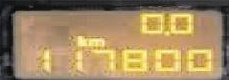-: (162, 28, 168, 35)
0: (151, 46, 180, 72), (184, 47, 211, 72), (166, 11, 193, 35), (137, 10, 162, 33)
1: (39, 47, 53, 72), (71, 47, 82, 72)
7: (86, 48, 115, 69)
8: (120, 47, 146, 71)
X: (86, 36, 104, 46), (75, 33, 86, 46)
